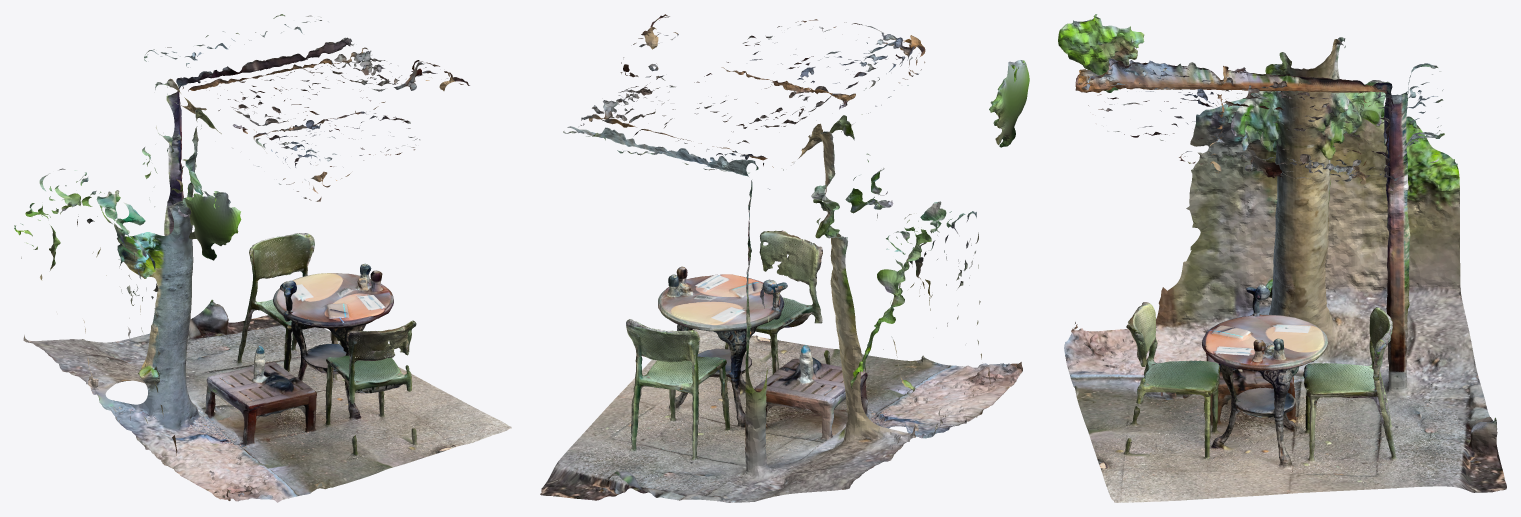
The model's file is cactus.glb.
The picture shows the model from 3 angles, left to right: view 1: azimuth 30°, elevation 25°; view 2: azimuth 150°, elevation 25°; view 3: azimuth 270°, elevation 25°; orthographic projection. The views are drawn at different scales.
Bounding box in the file's own units: 2.5 × 2.36 × 2.7.
Materials: 2 (2 with a texture image).
